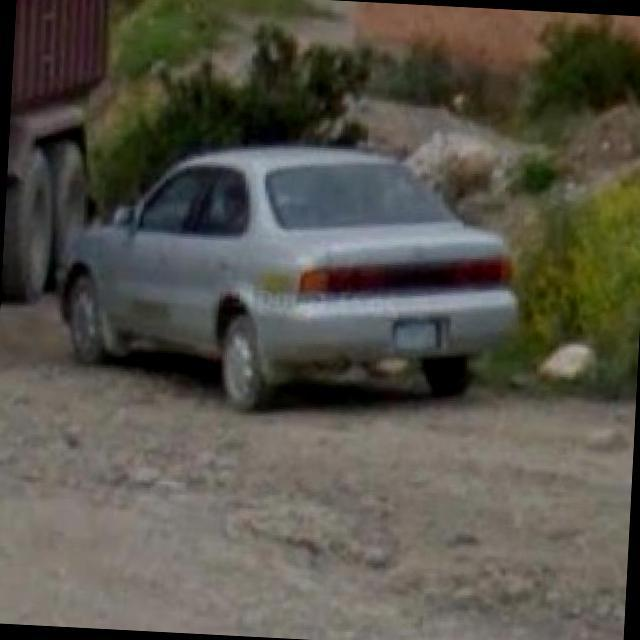car: (59, 144, 515, 413)
